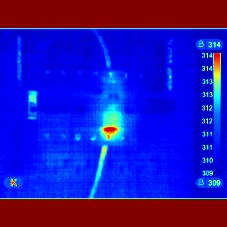Critical: (95, 110, 129, 147)
